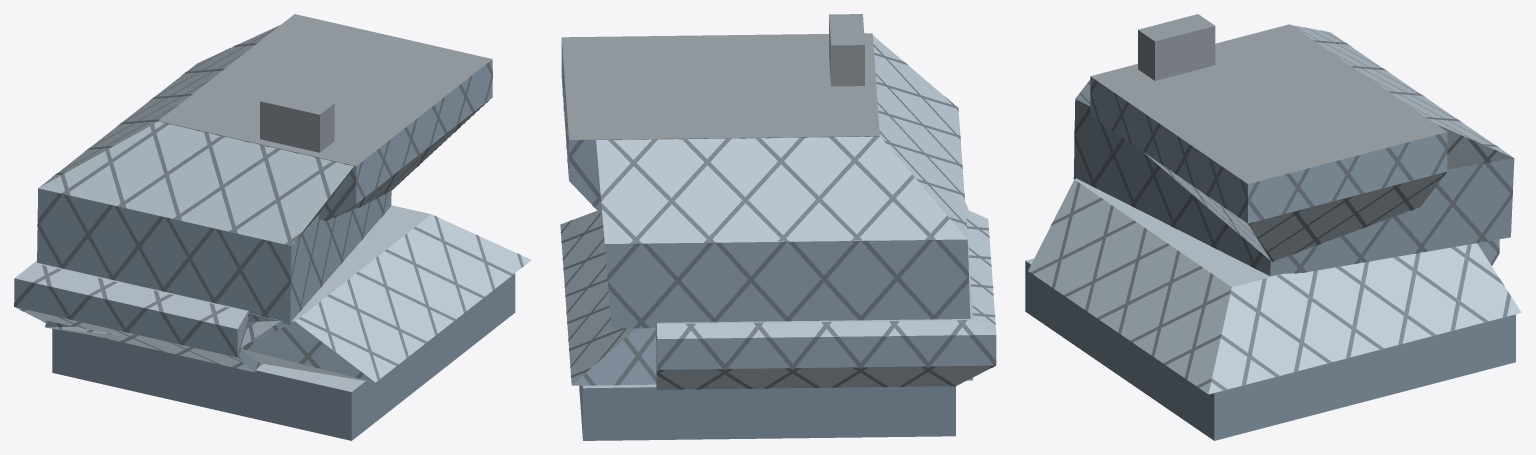
3 views of the same model, side by side, from view 1: azimuth 30°, elevation 25°; view 2: azimuth 150°, elevation 25°; view 3: azimuth 270°, elevation 25° (orthographic). The views are drawn at different scales.
Visible parts, largest first — view 1: seattle-central-library; view 2: seattle-central-library; view 3: seattle-central-library.
Part boxes in pixels (bbox=[...]): seattle-central-library: bbox=[14, 14, 531, 440]; seattle-central-library: bbox=[560, 14, 996, 440]; seattle-central-library: bbox=[1025, 14, 1521, 440].
Size of the model in its own units: 102 by 59.3 by 91.03.
